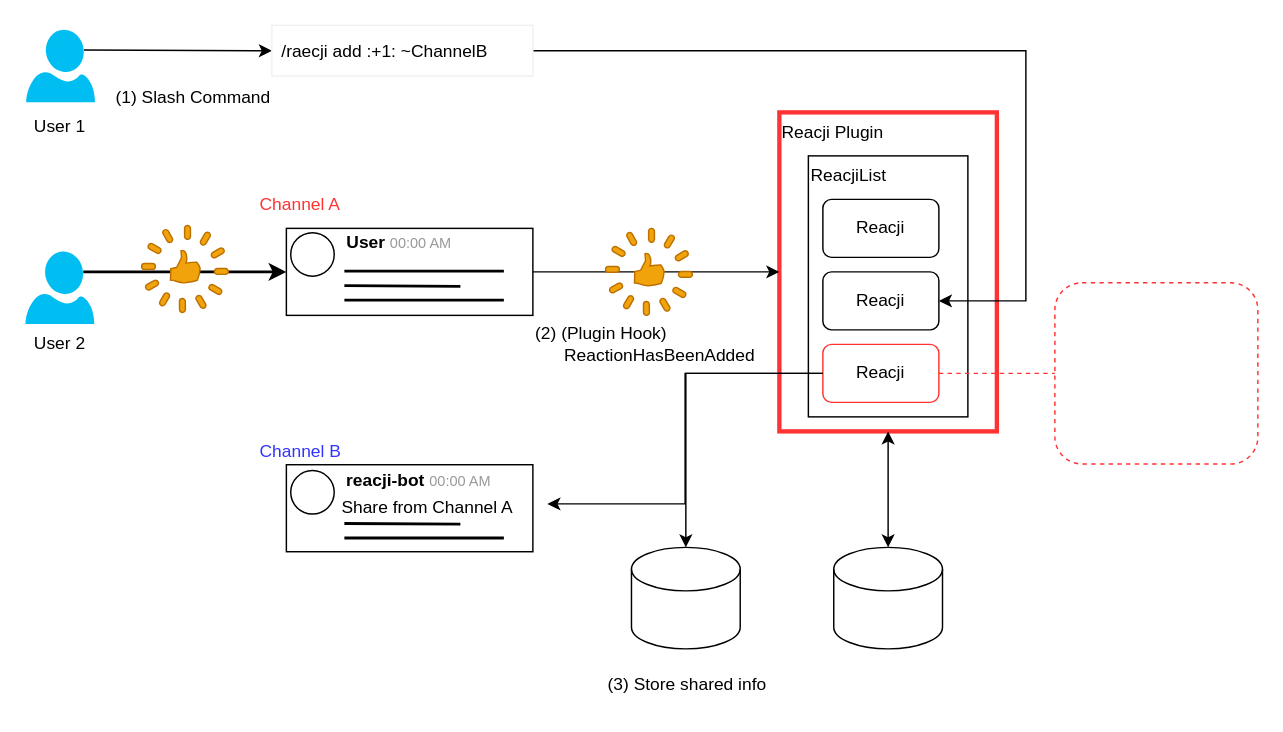
Some shapes in this 1283 by 732 pixel diagram are drawn without their labels. The centre of each missing label's shape, as x and y in pixels:
KV Store Reacji: the point at 887,597
KV Store Shared: the point at 685,597
Reacji From: Channel A To: Channel B Emoji: +1 DeleteKey: XXXXX: the point at 1155,372
